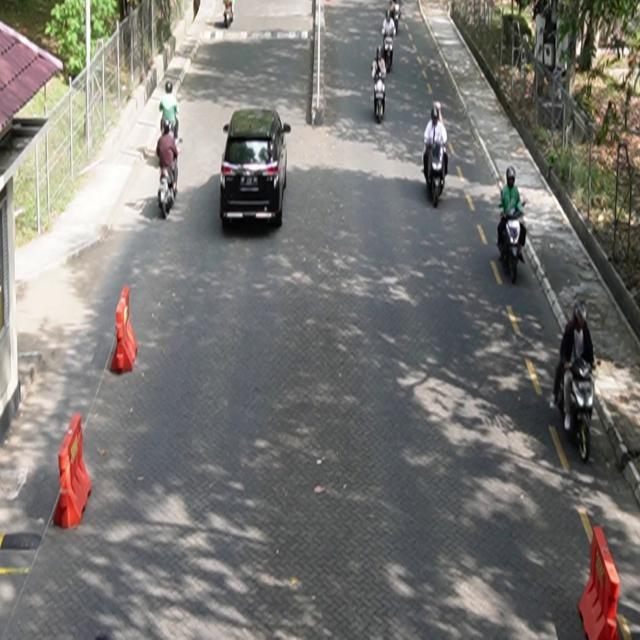car: (220, 108, 292, 229)
